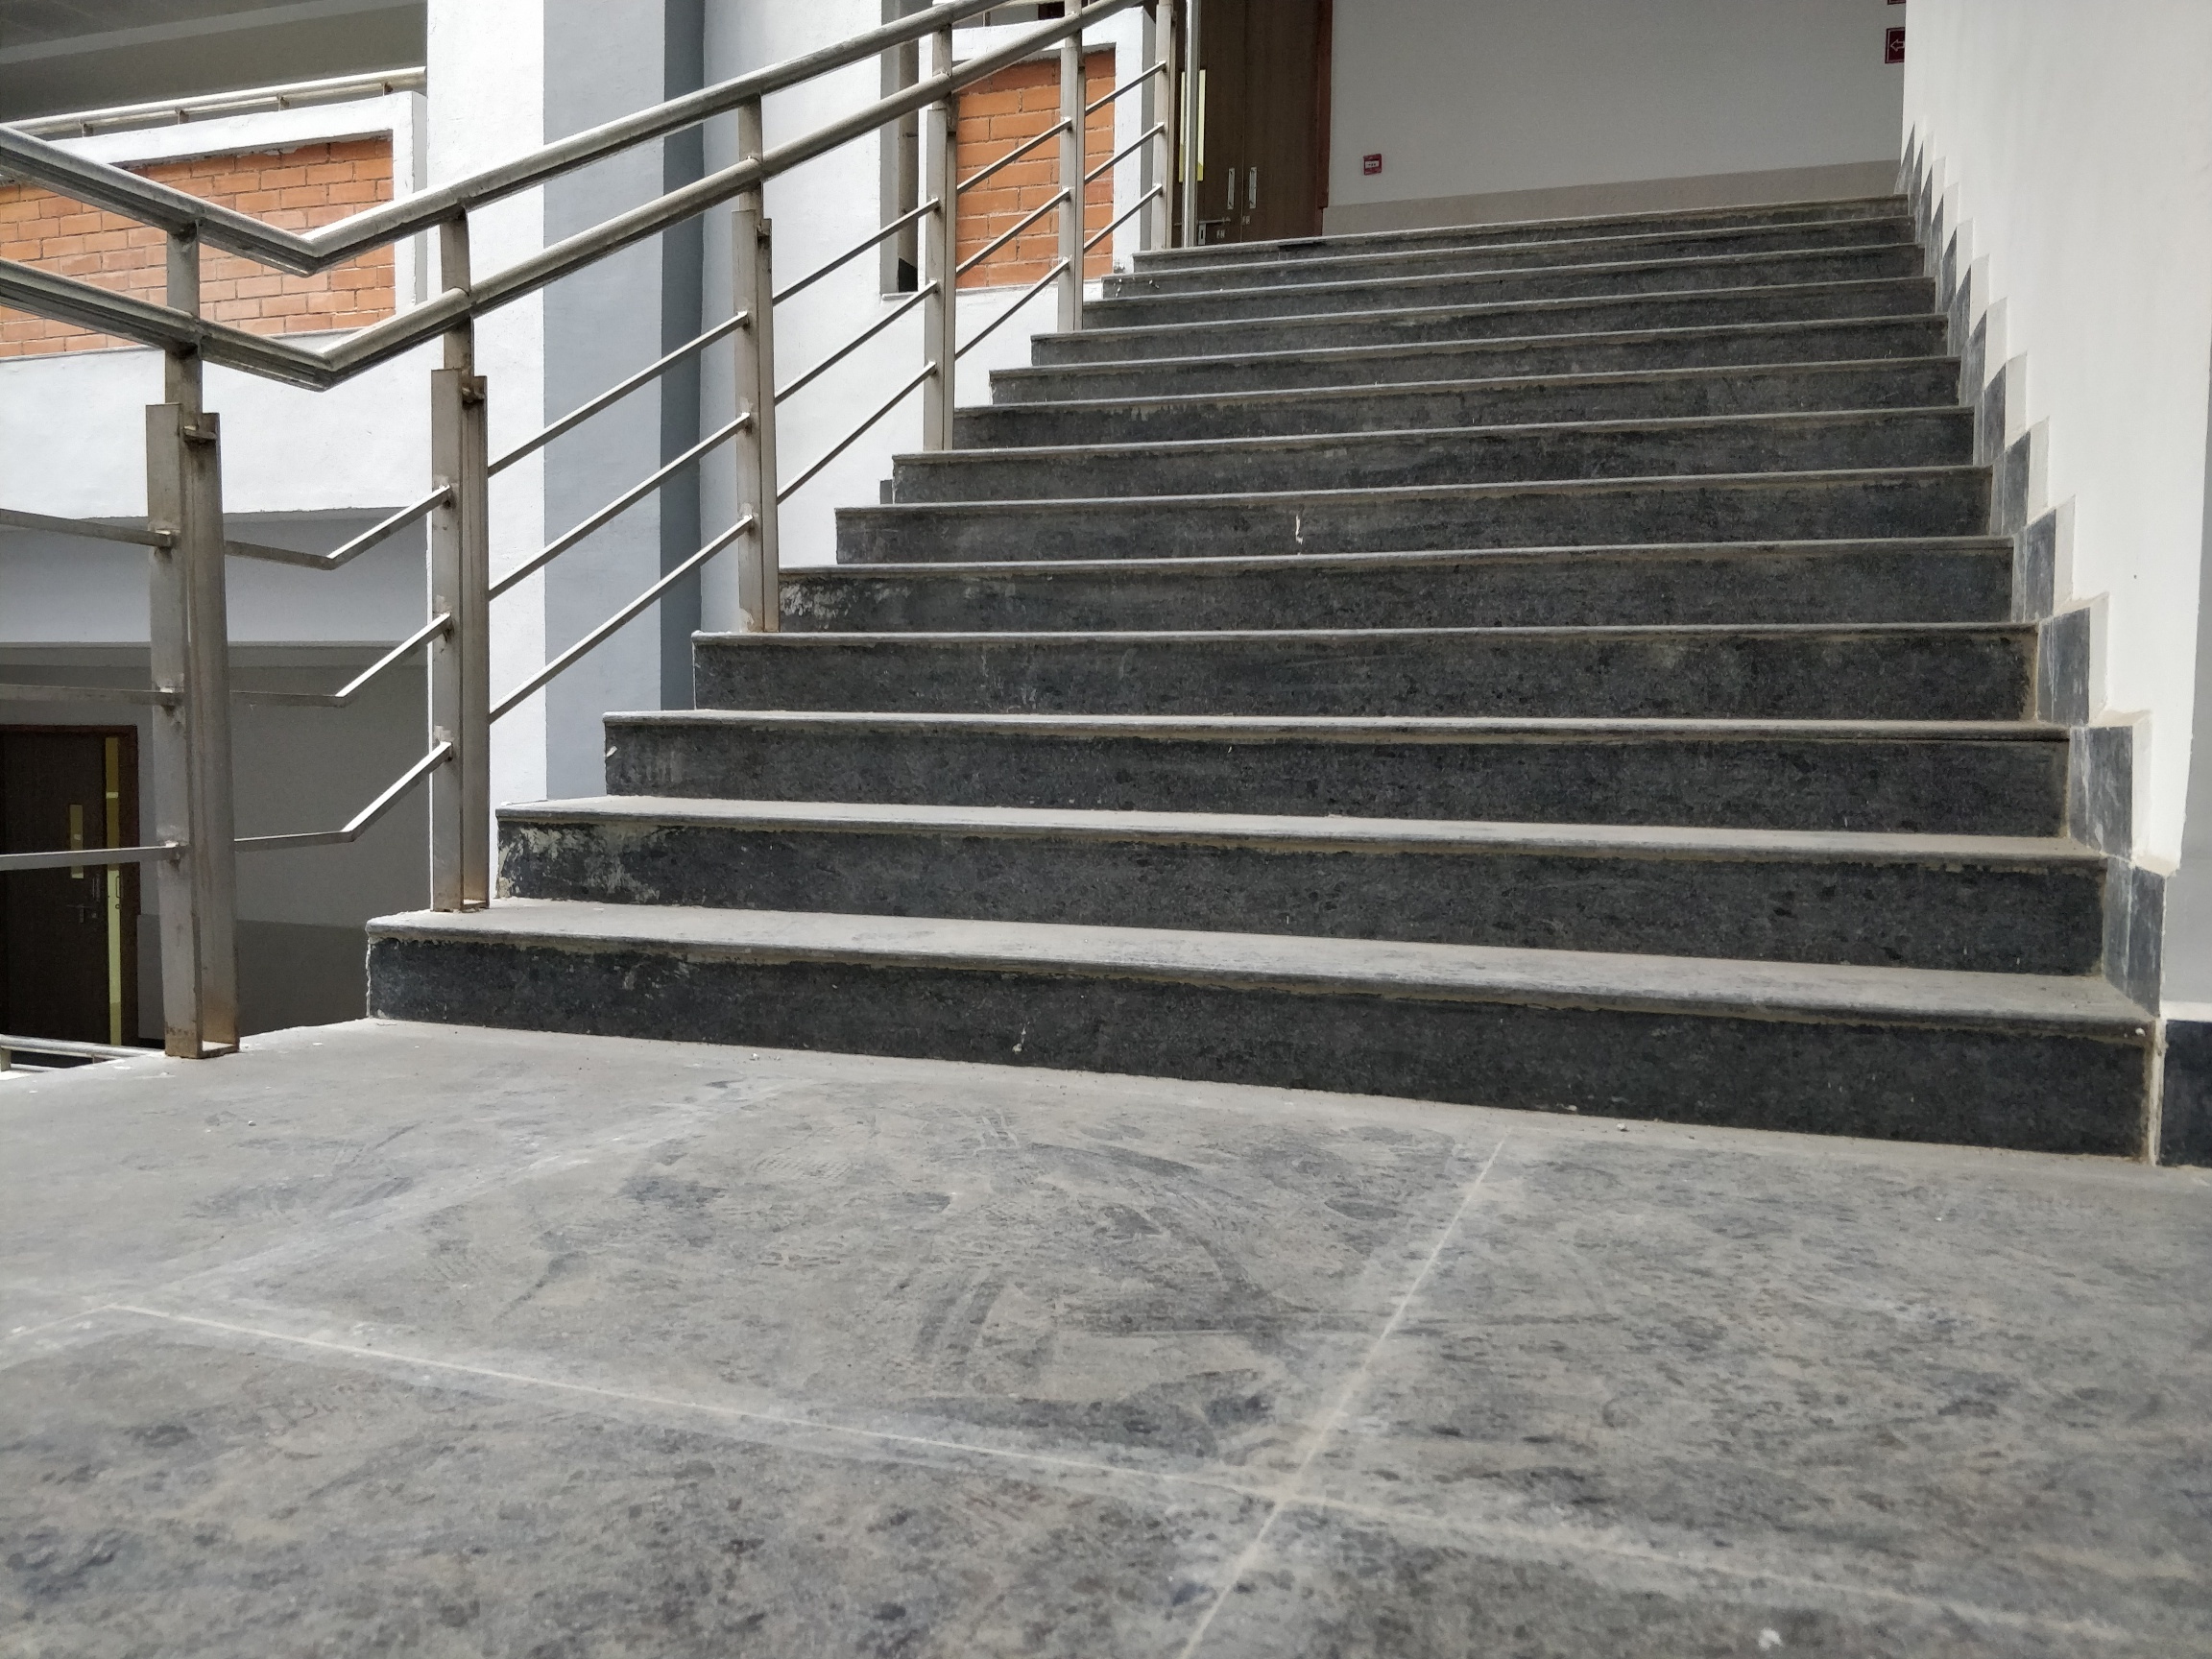stairs_up: (474, 193, 1923, 1077)
